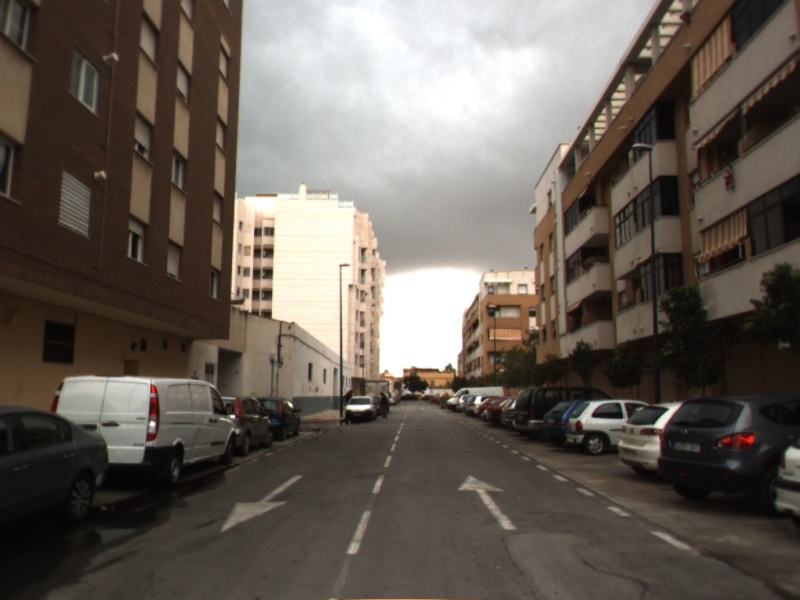STRAIGHT: (455, 473, 519, 531)
